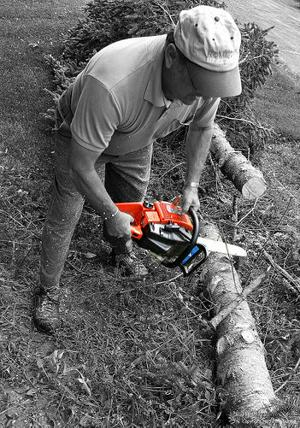person: (30, 5, 242, 335)
